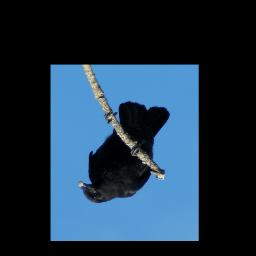Crow: (77, 100, 171, 204)
